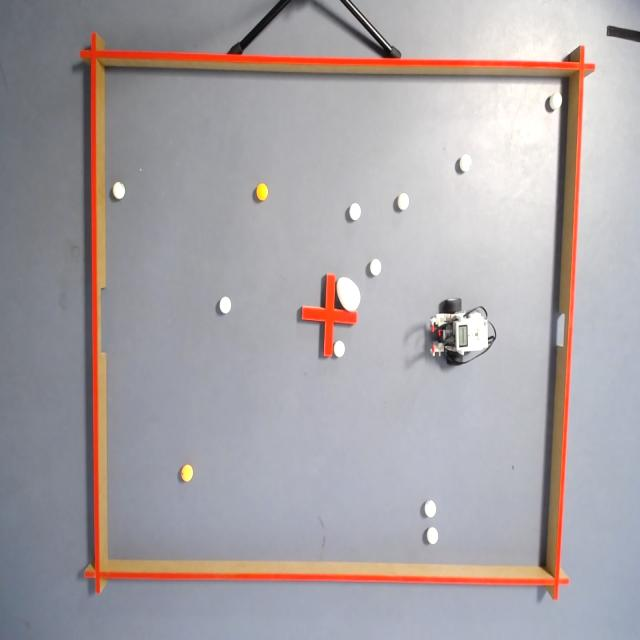boundaries: (541, 45, 595, 602), (76, 26, 599, 82), (79, 552, 574, 604), (76, 29, 110, 598)
cross: (301, 273, 358, 358)
egg: (336, 276, 361, 312)
large_goal: (76, 274, 120, 372)
orange_ball: (255, 182, 269, 201), (180, 463, 194, 482)
robot: (428, 298, 496, 367)
small_goal: (546, 300, 582, 360)
white_ball: (111, 180, 126, 200), (423, 498, 437, 519), (219, 295, 232, 315), (397, 192, 410, 211), (550, 91, 562, 111), (459, 154, 472, 172), (349, 202, 361, 221), (426, 526, 438, 545), (370, 259, 382, 277), (333, 340, 345, 358)
